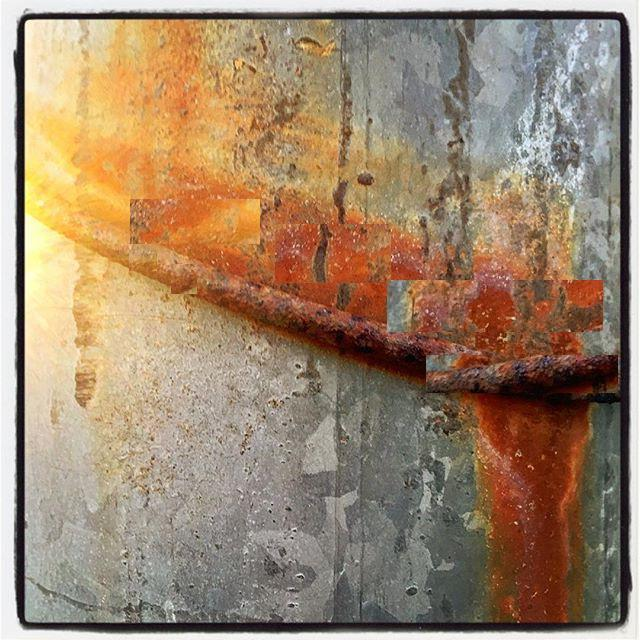Corrosion: (472, 396, 592, 624), (242, 282, 431, 374), (427, 356, 619, 400), (261, 202, 318, 283), (469, 284, 517, 352), (327, 225, 369, 282)
